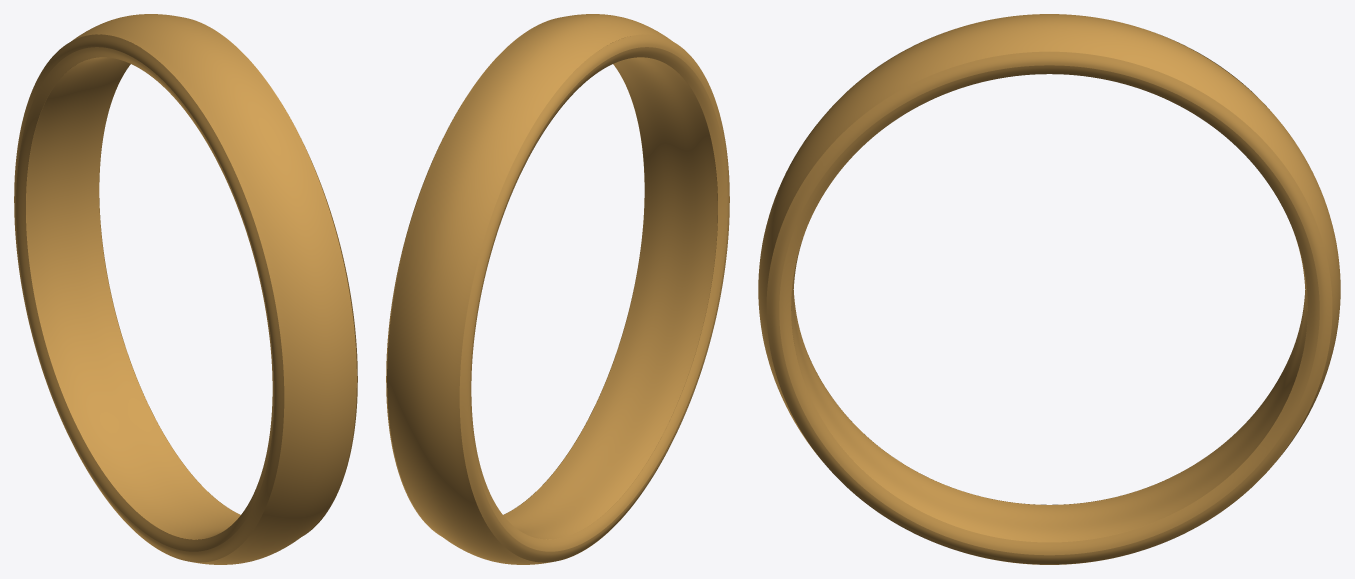
The picture shows the model from 3 angles, left to right: view 1: azimuth 30°, elevation 25°; view 2: azimuth 150°, elevation 25°; view 3: azimuth 270°, elevation 25°; orthographic projection. The views are drawn at different scales.
Parts seen in each view (by area): view 1: P5-Outer, P5-Inner, P5-Sides; view 2: P5-Outer, P5-Inner, P5-Sides; view 3: P5-Sides, P5-Outer, P5-Inner.
Boxes of the visible parts, x1,y1,x2,y2 form: P5-Outer: (26, 14, 356, 564); P5-Inner: (26, 50, 240, 539); P5-Sides: (14, 34, 357, 562); P5-Outer: (387, 14, 717, 564); P5-Inner: (503, 50, 717, 539); P5-Sides: (386, 34, 729, 562); P5-Sides: (766, 35, 1332, 564); P5-Outer: (758, 14, 1340, 564); P5-Inner: (791, 51, 1307, 542).
Size of the model in its own units: 0.00399 by 0.0238 by 0.0236.
